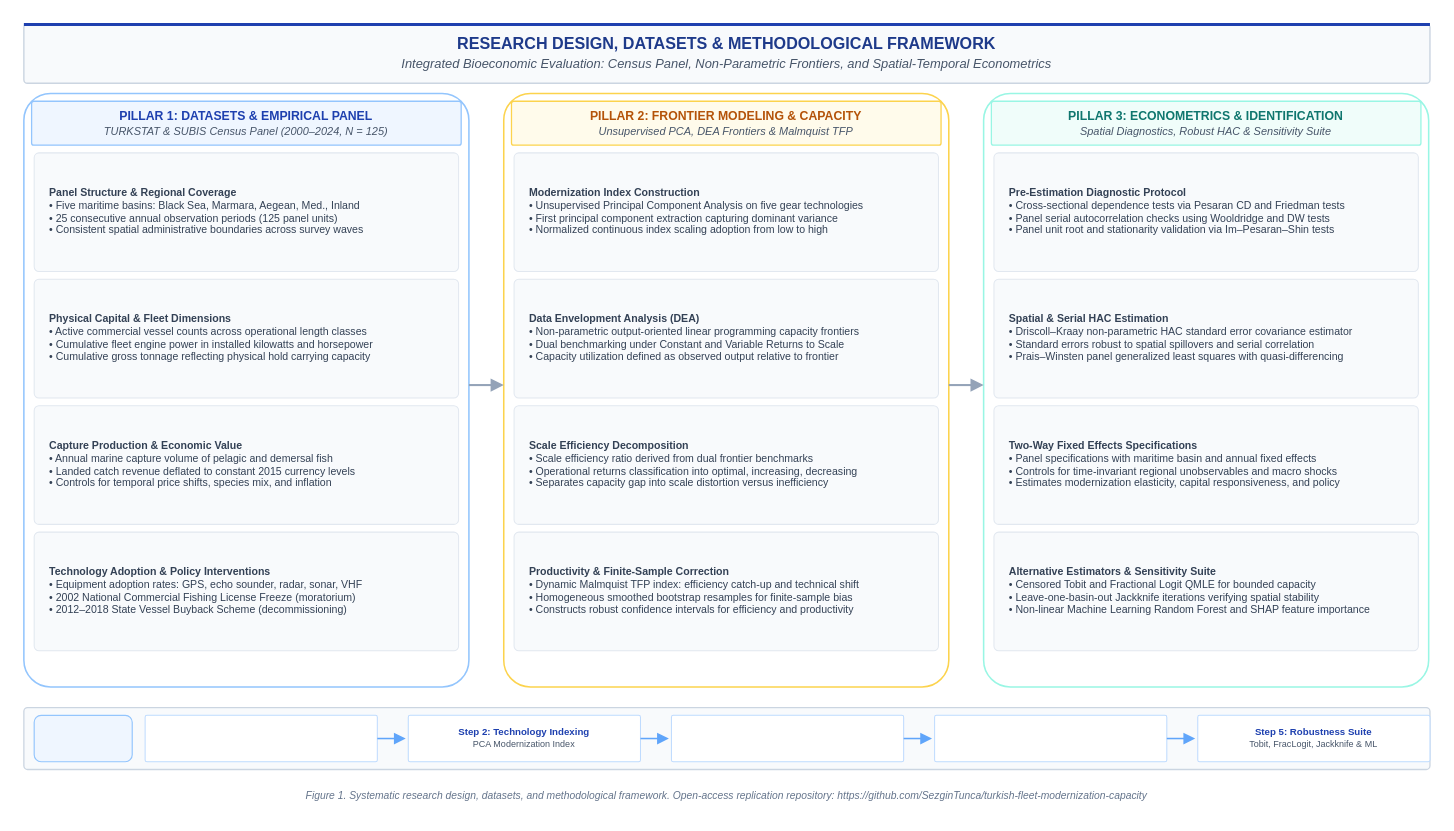
Some shapes in this 1454 by 831 pixel diagram are drawn without their labels. The centre of each missing label's shape, as x and y in pixels:
SEQUENTIAL PIPELINE: (x=82, y=738)
Step 1: Census Ingestion TURKSTAT & SUBIS (N = 125): (x=260, y=738)
Step 3: Frontier Modeling DEA Frontiers & Malmquist TFP: (x=787, y=738)
Step 4: Econometric ID Driscoll–Kraay & AR(1) FGLS: (x=1050, y=738)
